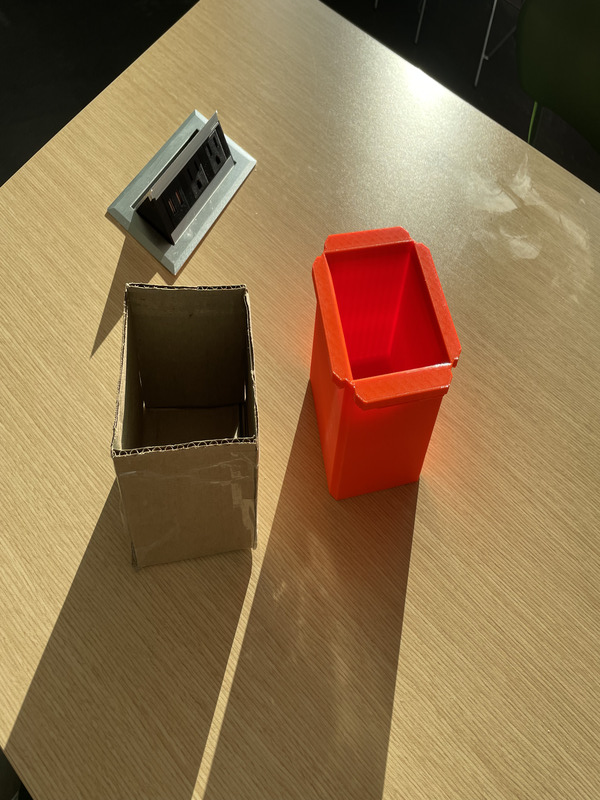payload1: (299, 219, 472, 504)
payload3: (103, 275, 278, 584)
